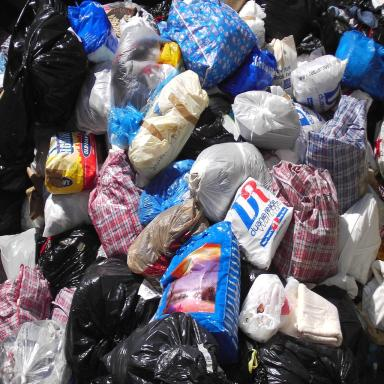plasticbag: (254, 289, 380, 384), (71, 262, 151, 373), (169, 0, 269, 82), (129, 71, 199, 184), (250, 264, 342, 346), (116, 18, 191, 116), (10, 7, 80, 106), (187, 150, 282, 218), (126, 316, 216, 380), (236, 89, 315, 155), (5, 316, 77, 383), (134, 156, 204, 224), (26, 226, 100, 284), (332, 21, 384, 101)
